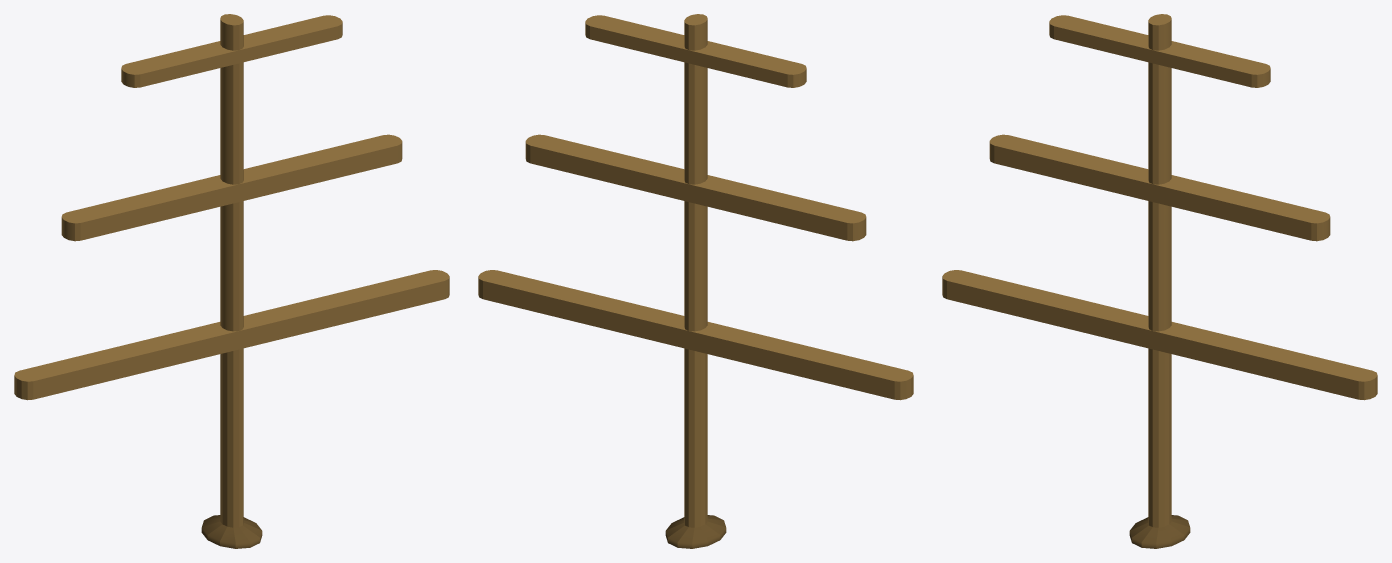
Rendered from shipwreckmast.fbx.
3 renders of one model, left to right at view 1: azimuth 30°, elevation 25°; view 2: azimuth 150°, elevation 25°; view 3: azimuth 330°, elevation 25°, orthographic.
Visible parts, largest first — view 1: Mast; view 2: Mast; view 3: Mast.
Boxes of the visible parts, x1,y1,x2,y2 form: Mast: (14,14,449,548); Mast: (478,14,913,548); Mast: (942,14,1377,548).
Bounding box in the file's own units: 4.14 × 4.73 × 0.6122.
